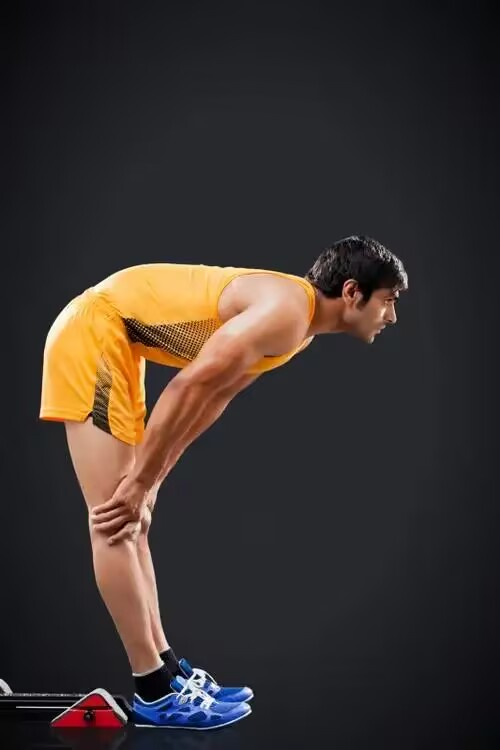bending: (41, 228, 423, 737)
